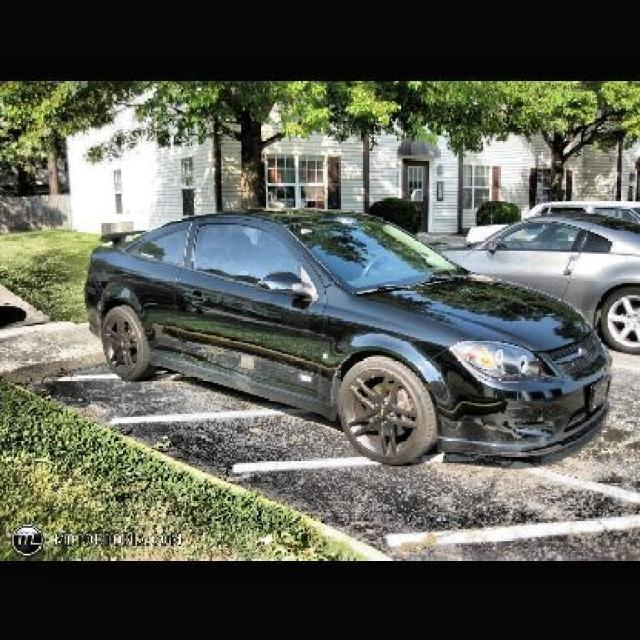black: (98, 199, 612, 452)
